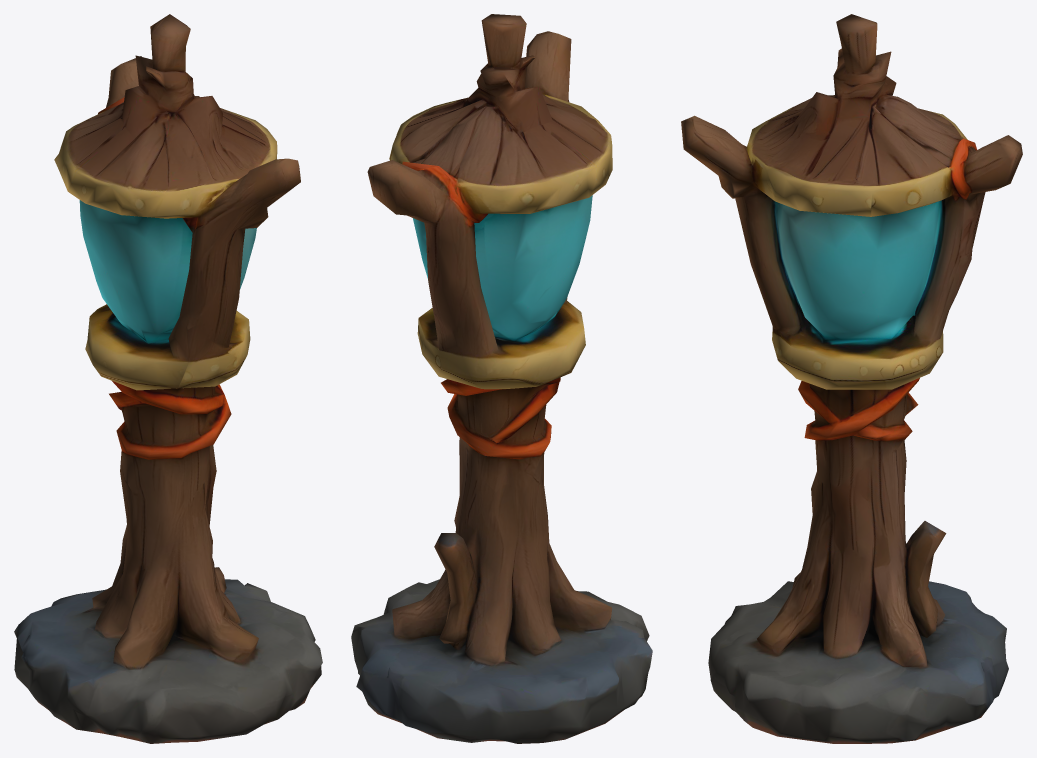
File: dawnreef-lantern.glb
3 renders of one model, left to right at view 1: azimuth 30°, elevation 25°; view 2: azimuth 150°, elevation 25°; view 3: azimuth 270°, elevation 25°, orthographic.
Parts seen in each view (by area): view 1: tripo_node_e2e2d37c-ff35-4932-a51a-97dbc41e0e56; view 2: tripo_node_e2e2d37c-ff35-4932-a51a-97dbc41e0e56; view 3: tripo_node_e2e2d37c-ff35-4932-a51a-97dbc41e0e56.
Part boxes in pixels (x1,y1,x2,y2): tripo_node_e2e2d37c-ff35-4932-a51a-97dbc41e0e56: (14, 14, 322, 743); tripo_node_e2e2d37c-ff35-4932-a51a-97dbc41e0e56: (351, 14, 652, 743); tripo_node_e2e2d37c-ff35-4932-a51a-97dbc41e0e56: (681, 14, 1022, 743).
Bounding box in the file's own units: 0.1406 × 0.35 × 0.1625.
Materials: 1 (1 with a texture image).
